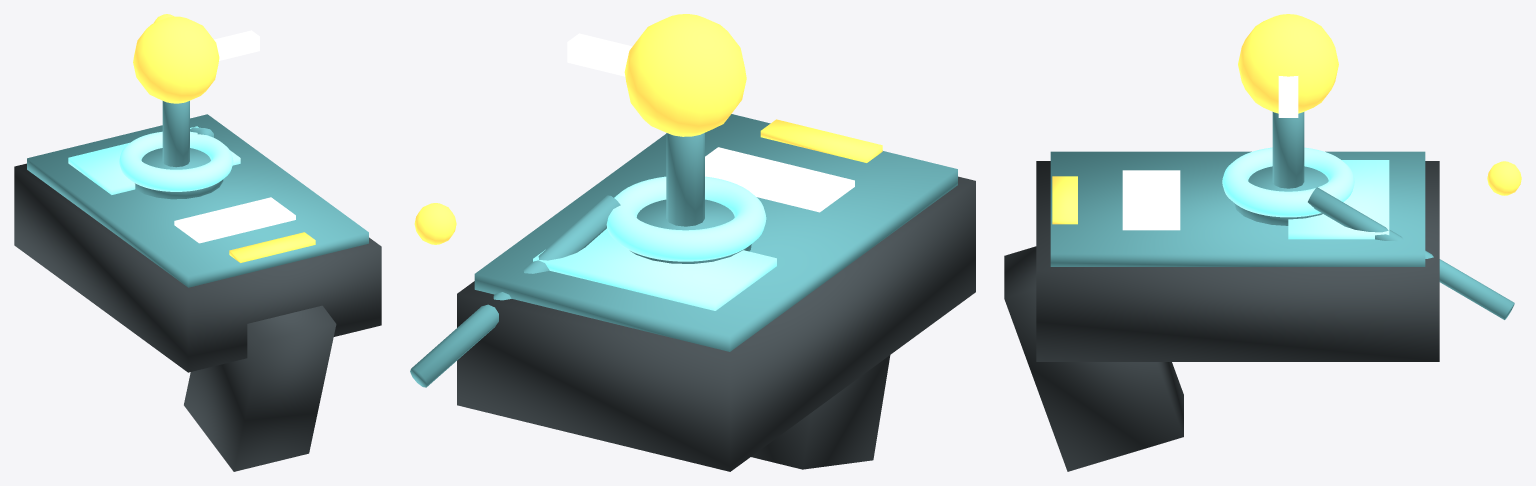
The model's file is mill_remote.glb.
The picture shows the model from 3 angles, left to right: view 1: azimuth 30°, elevation 25°; view 2: azimuth 150°, elevation 25°; view 3: azimuth 270°, elevation 25°; orthographic projection. The views are drawn at different scales.
Visible parts, largest first — view 1: Body, Bezel, Grip, Knob, Ring, Screen, Plate, Shaft, Well, Badge, Fin; view 2: Body, Bezel, Knob, Plate, Ring, Grip, Screen, Antenna, Shaft, Badge, Fin, Well (+1 smaller); view 3: Body, Bezel, Grip, Knob, Ring, Plate, Screen, Antenna, Shaft, Well, Badge, Tip (+1 smaller).
Boxes of the visible parts, x1,y1,x2,y2 form: Body: [14, 163, 381, 372]; Bezel: [27, 114, 368, 287]; Grip: [184, 305, 336, 471]; Knob: [133, 16, 219, 103]; Ring: [119, 131, 233, 191]; Screen: [174, 197, 295, 243]; Plate: [68, 126, 240, 194]; Shaft: [162, 101, 189, 167]; Well: [135, 148, 223, 199]; Badge: [229, 232, 315, 262]; Fin: [214, 30, 259, 60]; Body: [457, 176, 975, 471]; Bezel: [474, 114, 957, 351]; Knob: [624, 14, 746, 136]; Plate: [533, 228, 776, 310]; Ring: [606, 176, 766, 261]; Grip: [751, 355, 890, 469]; Screen: [705, 147, 854, 212]; Antenna: [410, 195, 620, 387]; Shaft: [666, 133, 704, 226]; Badge: [760, 119, 882, 162]; Fin: [567, 33, 632, 76]; Well: [630, 199, 751, 263]; Body: [1036, 161, 1439, 361]; Bezel: [1050, 151, 1425, 266]; Grip: [1004, 246, 1183, 471]; Knob: [1238, 14, 1338, 113]; Ring: [1222, 147, 1354, 217]; Plate: [1288, 160, 1389, 239]; Screen: [1122, 170, 1180, 230]; Antenna: [1308, 187, 1514, 319]; Shaft: [1272, 112, 1304, 188]; Well: [1234, 166, 1328, 225]; Badge: [1052, 176, 1077, 224]; Tip: [1487, 161, 1521, 195].
Size of the model in its own units: 0.1836 by 0.3309 by 0.3594.
